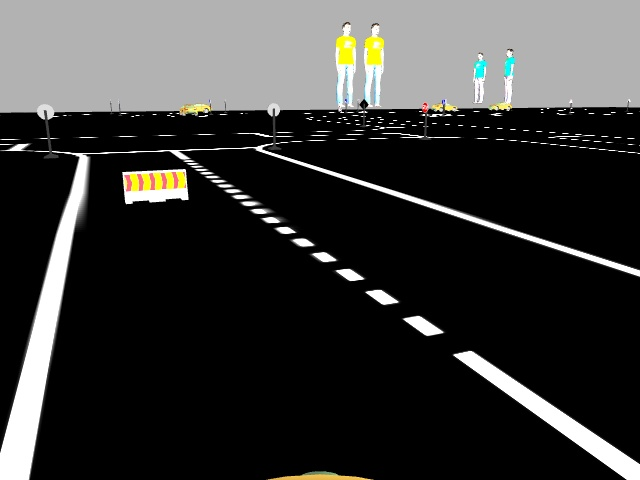ClosedRoadStand: (122, 172, 188, 200)
